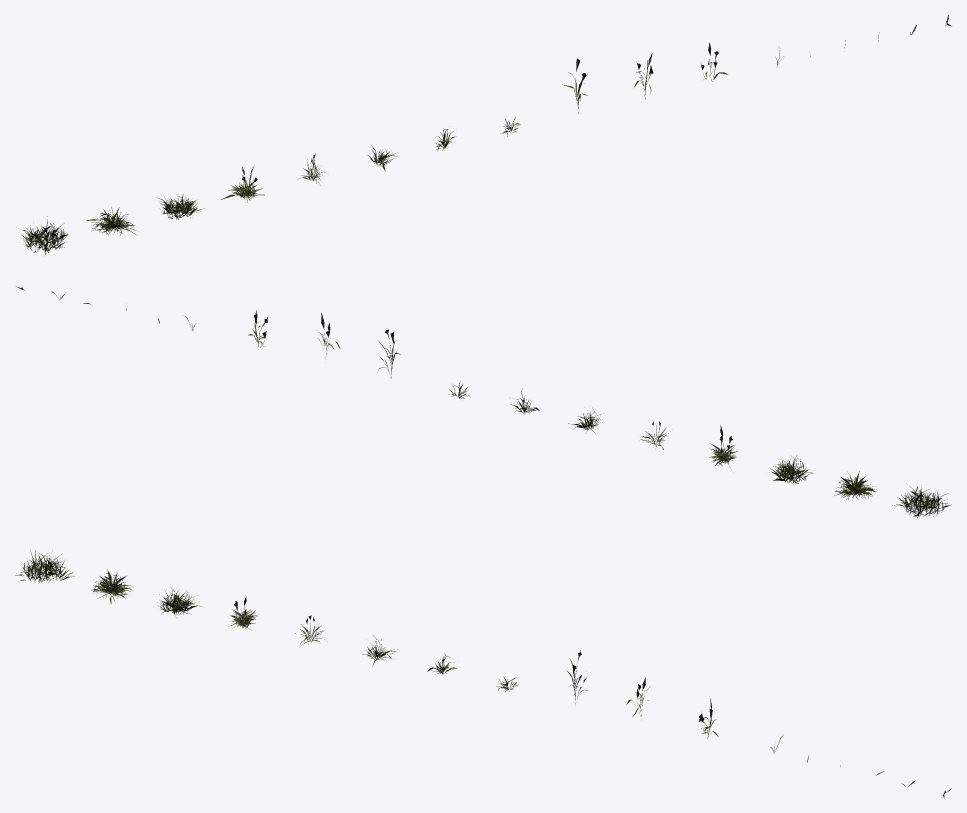
The model's file is grass_medium_01.glb.
The picture shows the model from 3 angles, top to bottom: view 1: azimuth 30°, elevation 25°; view 2: azimuth 150°, elevation 25°; view 3: azimuth 330°, elevation 25°; orthographic projection.
Visible parts, largest first — view 1: grass_medium_01_small_a_LOD0; view 2: grass_medium_01_small_a_LOD0; view 3: grass_medium_01_small_a_LOD0.
Boxes of the visible parts, x1=… form: grass_medium_01_small_a_LOD0: x1=18, y1=15, x2=951, y2=254; grass_medium_01_small_a_LOD0: x1=16, y1=286, x2=950, y2=517; grass_medium_01_small_a_LOD0: x1=15, y1=550, x2=951, y2=797.
Size of the model in its own units: 5.6 by 0.3386 by 0.3263.
Materials: 1 (1 with a texture image).
